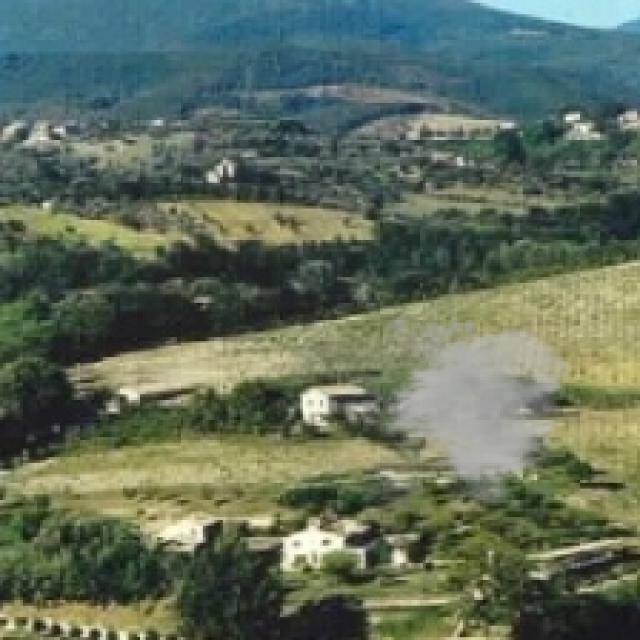smoke: (366, 306, 574, 511)
